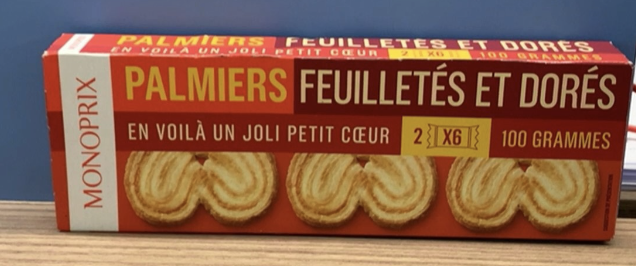cookies_150g: (67, 64, 615, 232)
